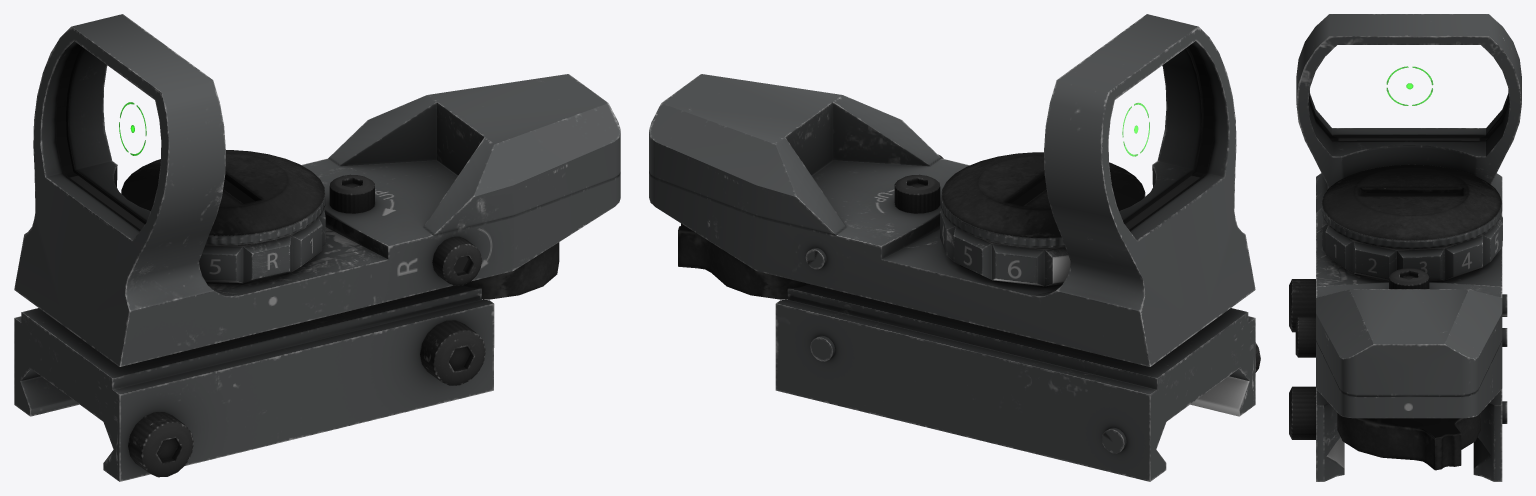
Rendered from RedDot.fbx.
3 renders of one model, left to right at view 1: azimuth 30°, elevation 25°; view 2: azimuth 150°, elevation 25°; view 3: azimuth 270°, elevation 25°, orthographic. The views are drawn at different scales.
Visible parts, largest first — view 1: RedDot_BodyLow; view 2: RedDot_BodyLow; view 3: RedDot_BodyLow, RedDot_GlassLow.
Boxes of the visible parts, x1,y1,x2,y2 form: RedDot_BodyLow: [14, 14, 620, 481]; RedDot_BodyLow: [649, 14, 1260, 481]; RedDot_BodyLow: [1289, 14, 1521, 481]; RedDot_GlassLow: [1386, 66, 1433, 105].
Size of the model in its own units: 5.44 by 3.7 by 2.38.
